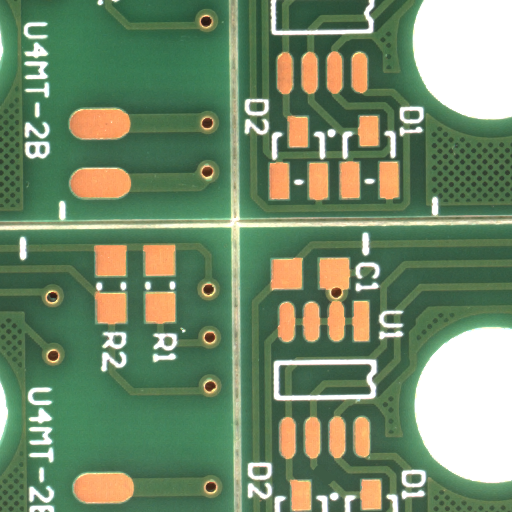Open_circuit: (324, 476, 347, 497)
